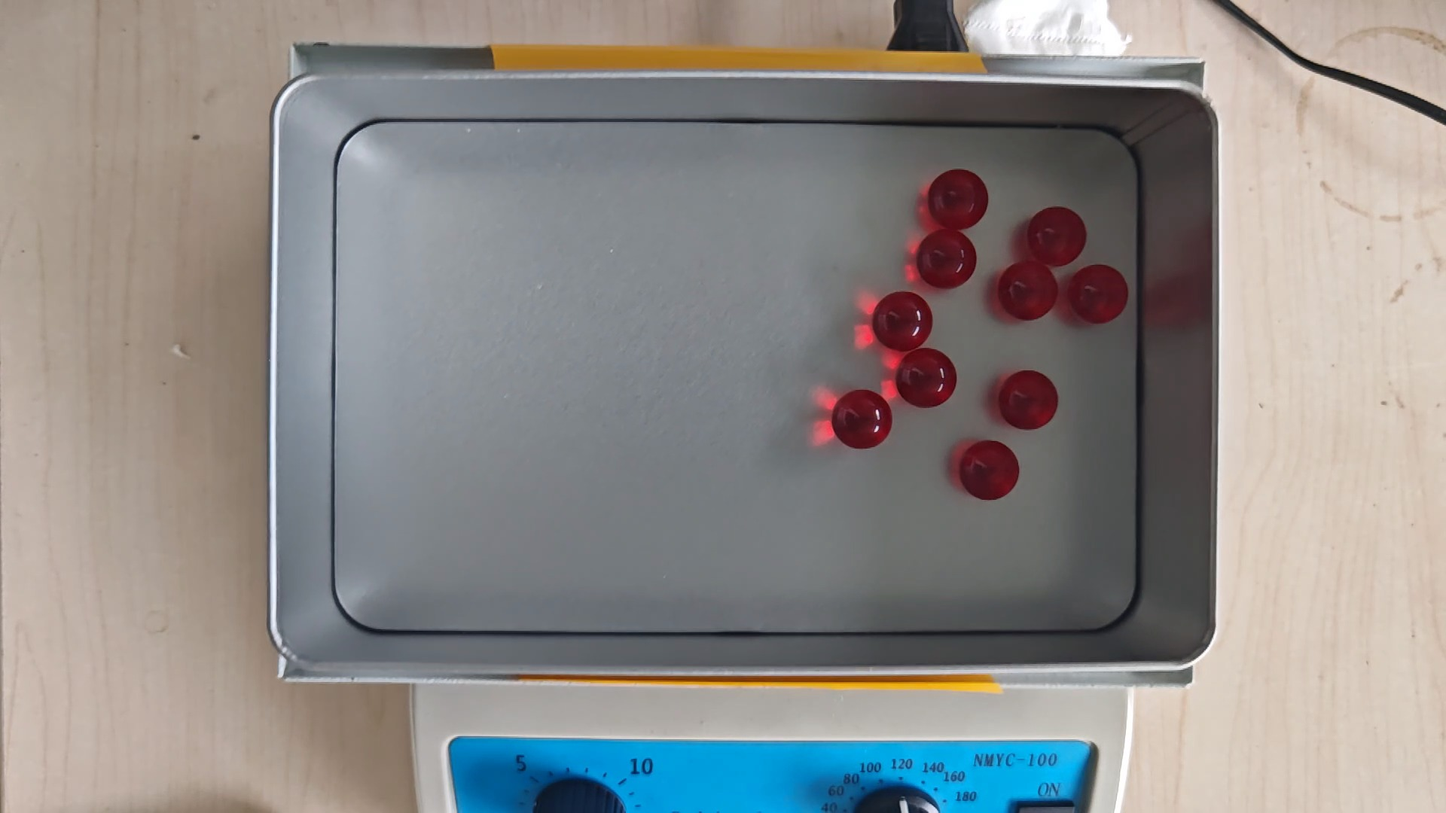ball: (959, 439, 1021, 502), (998, 369, 1059, 431), (832, 389, 893, 451), (873, 290, 934, 351), (897, 348, 957, 409), (918, 229, 977, 290), (1069, 264, 1128, 325), (929, 168, 988, 229), (999, 261, 1058, 321), (1029, 206, 1086, 265)
container: (333, 122, 1139, 633)
